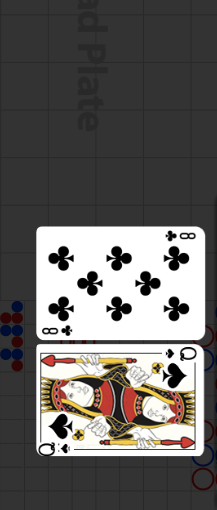8C: (163, 230, 197, 244)
9S: (37, 442, 73, 456)
